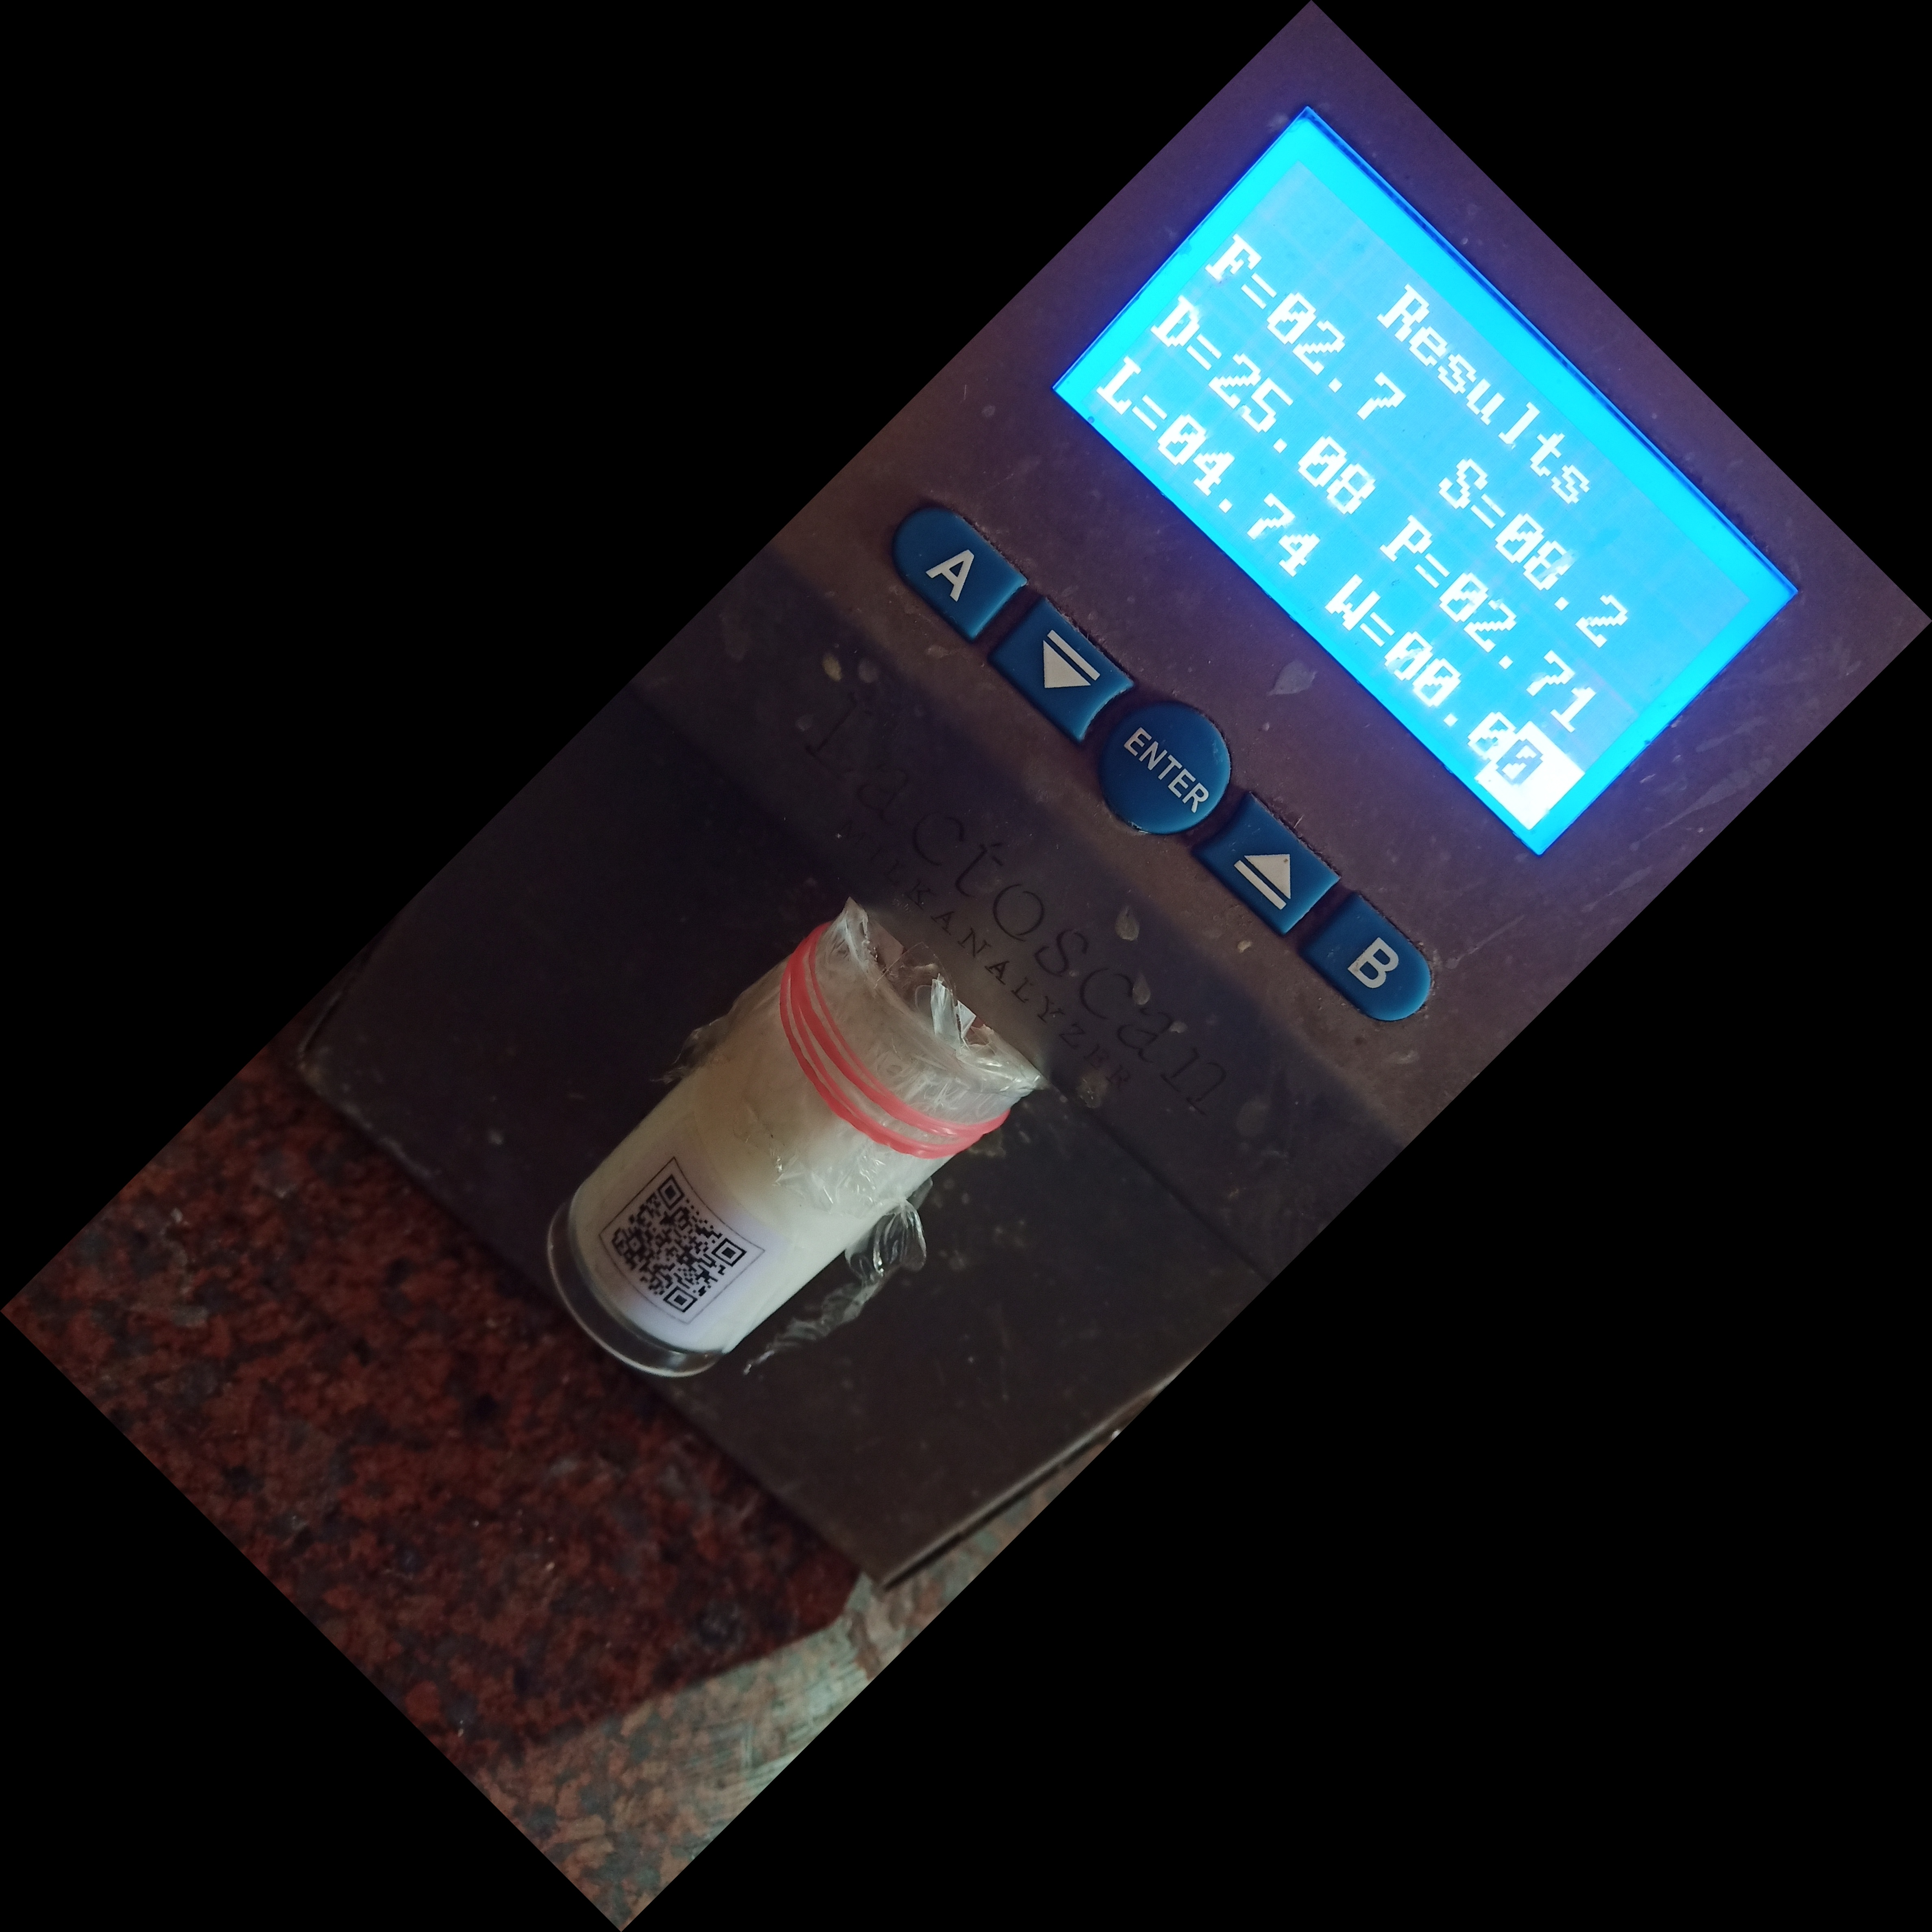lcd: (1021, 83, 1856, 885)
qr: (602, 1150, 768, 1362)
